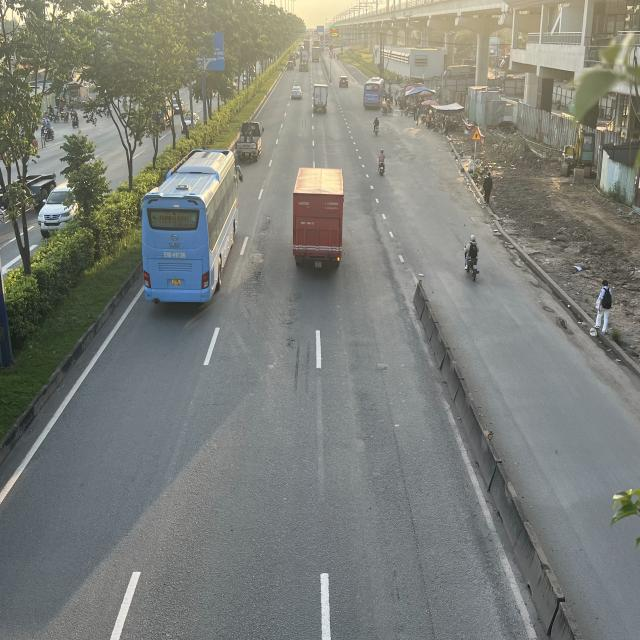coach: (140, 148, 240, 307), (364, 80, 384, 109)
truck: (294, 167, 348, 266), (235, 120, 262, 160)
